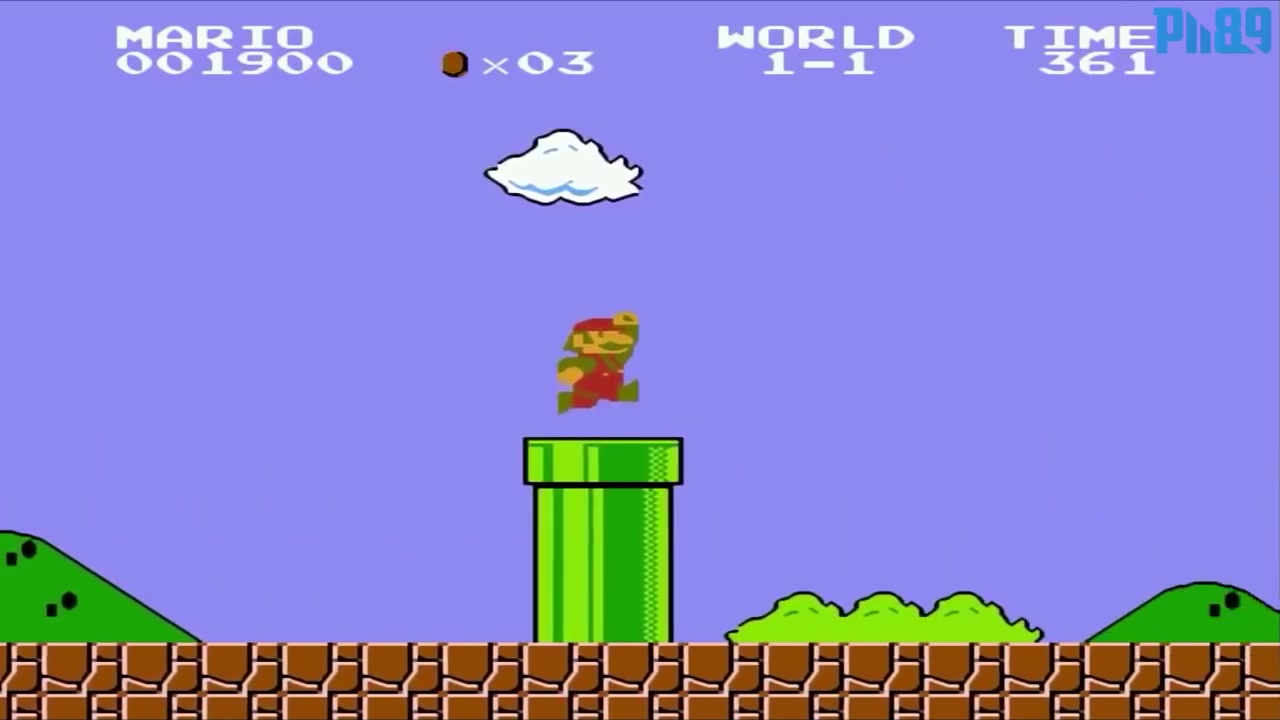mario: (542, 303, 653, 419)
